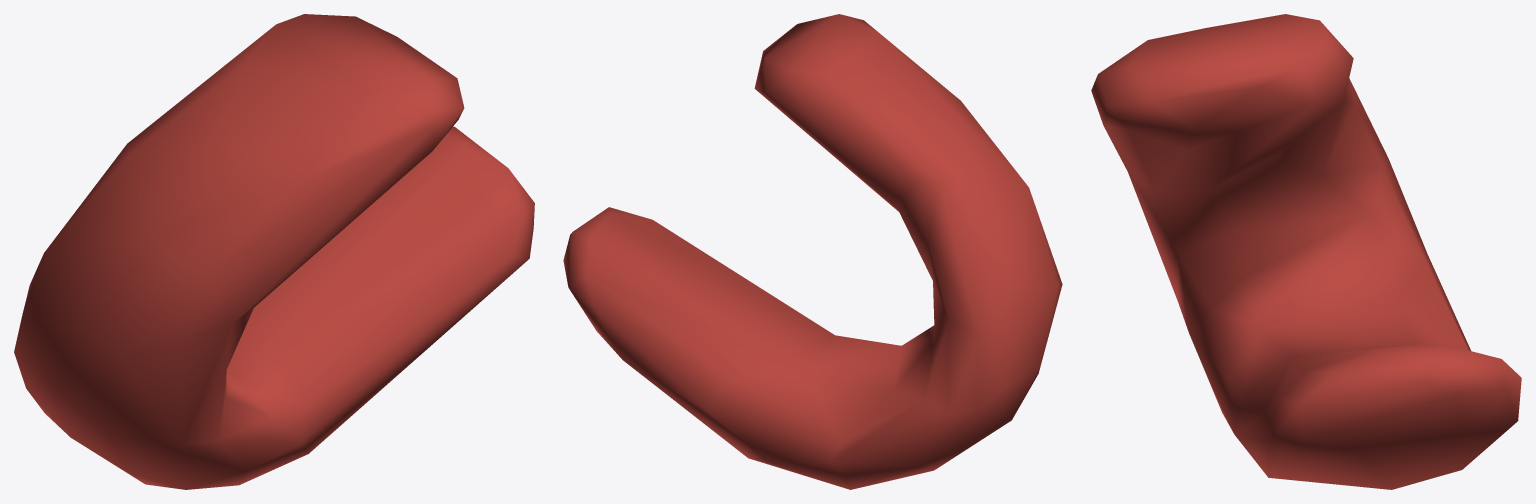
File: musculos-trochlea-of-superior-oblique-muscle-r.glb
3 renders of one model, left to right at view 1: azimuth 30°, elevation 25°; view 2: azimuth 150°, elevation 25°; view 3: azimuth 270°, elevation 25°, orthographic. The views are drawn at different scales.
Parts seen in each view (by area): view 1: Trochlea of superior oblique muscle.r; view 2: Trochlea of superior oblique muscle.r; view 3: Trochlea of superior oblique muscle.r.
Boxes of the visible parts, x1,y1,x2,y2 form: Trochlea of superior oblique muscle.r: [14, 14, 534, 489]; Trochlea of superior oblique muscle.r: [563, 14, 1062, 489]; Trochlea of superior oblique muscle.r: [1091, 14, 1521, 489].
Size of the model in its own units: 0.00422 by 0.00361 by 0.00294.
